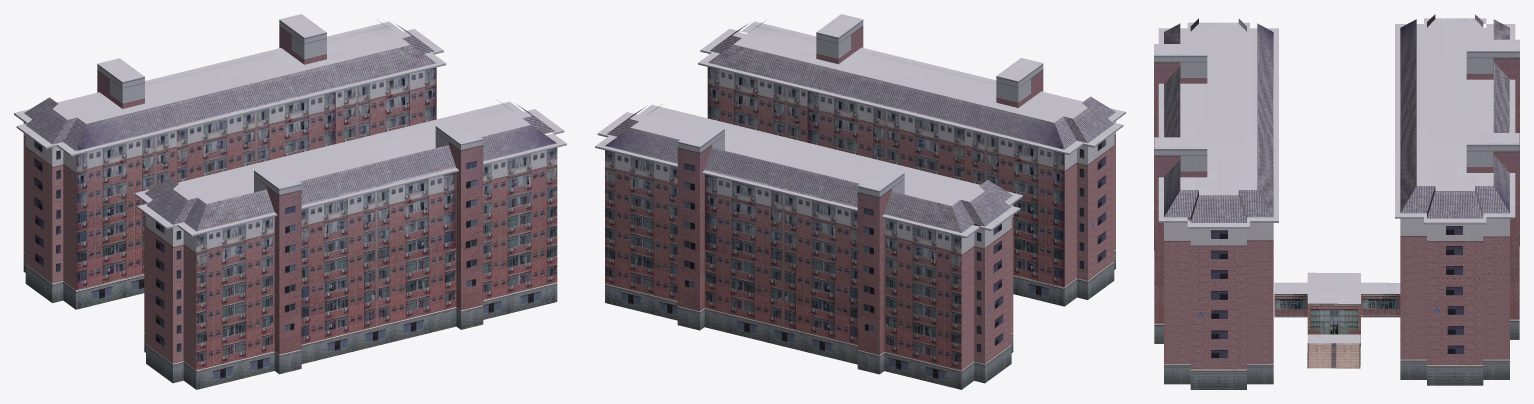
The picture shows the model from 3 angles, left to right: view 1: azimuth 30°, elevation 25°; view 2: azimuth 150°, elevation 25°; view 3: azimuth 270°, elevation 25°; orthographic projection. The views are drawn at different scales.
Parts seen in each view (by area): view 1: Mesh04#26, Mesh06#23, Mesh05#25, Mesh01#34, Mesh02#36, Mesh03#30, Mesh08#16, Mesh07#22; view 2: Mesh06#23, Mesh04#26, Mesh01#34, Mesh05#25, Mesh07#22, Mesh08#16, Mesh03#30, Mesh02#36; view 3: Mesh01#34, Mesh05#25, Mesh04#26, Mesh06#23, Mesh09#11, Mesh02#36, Mesh07#22, Mesh08#16, Mesh03#30.
Boxes of the visible parts, x1=… form: Mesh04#26: x1=144, y1=148, x2=557, y2=389; Mesh06#23: x1=23, y1=54, x2=436, y2=309; Mesh05#25: x1=14, y1=21, x2=446, y2=156; Mesh01#34: x1=134, y1=101, x2=566, y2=236; Mesh02#36: x1=435, y1=120, x2=483, y2=329; Mesh03#30: x1=254, y1=165, x2=301, y2=374; Mesh08#16: x1=97, y1=58, x2=144, y2=108; Mesh07#22: x1=279, y1=14, x2=326, y2=64; Mesh06#23: x1=605, y1=150, x2=1013, y2=389; Mesh04#26: x1=707, y1=54, x2=1115, y2=306; Mesh01#34: x1=698, y1=20, x2=1125, y2=154; Mesh05#25: x1=595, y1=104, x2=1022, y2=238; Mesh07#22: x1=677, y1=123, x2=724, y2=330; Mesh08#16: x1=857, y1=167, x2=904, y2=374; Mesh03#30: x1=996, y1=58, x2=1043, y2=107; Mesh02#36: x1=816, y1=14, x2=863, y2=64; Mesh01#34: x1=1158, y1=18, x2=1278, y2=228; Mesh05#25: x1=1395, y1=14, x2=1515, y2=224; Mesh04#26: x1=1164, y1=219, x2=1273, y2=389; Mesh06#23: x1=1400, y1=218, x2=1509, y2=385; Mesh09#11: x1=1274, y1=272, x2=1400, y2=368; Mesh02#36: x1=1154, y1=137, x2=1207, y2=343; Mesh07#22: x1=1466, y1=133, x2=1519, y2=339; Mesh08#16: x1=1466, y1=39, x2=1519, y2=245; Mesh03#30: x1=1154, y1=44, x2=1207, y2=250.
Bounding box in the file's own units: 0.0743 × 0.0324 × 0.0551.
Materials: 2 (2 with a texture image).
